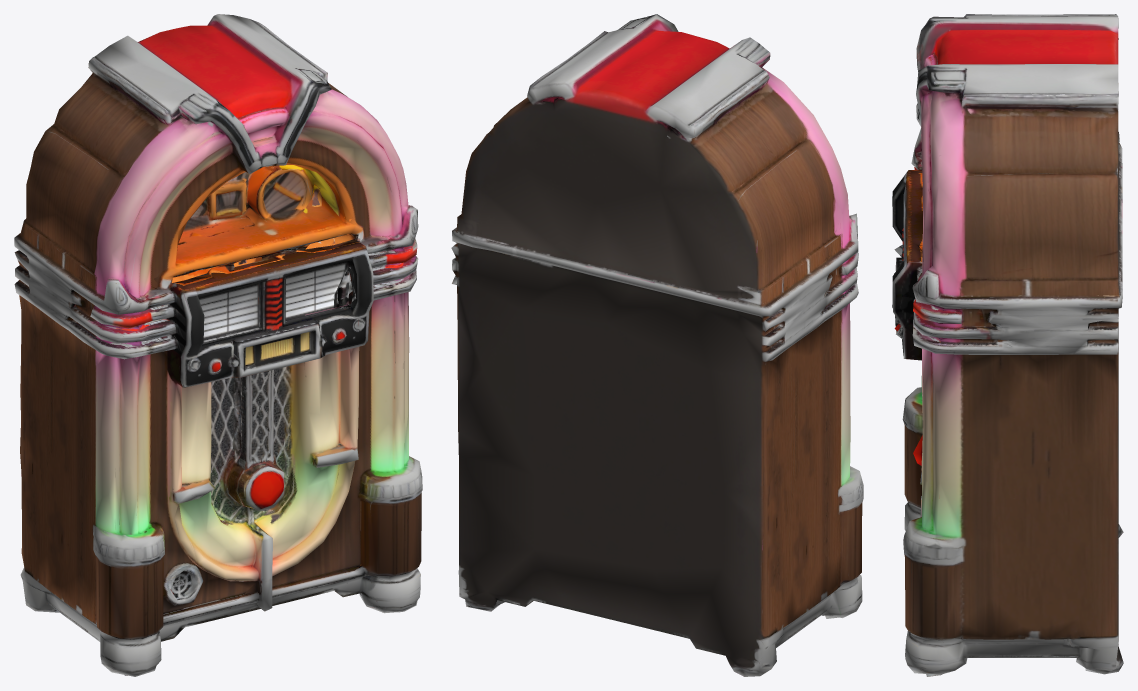
File: Meshy_AI_A_highly_detailed_vin_0105223023_texture.fbx
3 renders of one model, left to right at view 1: azimuth 30°, elevation 25°; view 2: azimuth 150°, elevation 25°; view 3: azimuth 270°, elevation 25°, orthographic. The views are drawn at different scales.
Visible parts, largest first — view 1: Mesh1.0; view 2: Mesh1.0; view 3: Mesh1.0.
Boxes of the visible parts, left/top/right/bottom form: Mesh1.0: left=14, top=14, right=422, bottom=676; Mesh1.0: left=451, top=14, right=863, bottom=676; Mesh1.0: left=892, top=14, right=1123, bottom=676.
Size of the model in its own units: 116 by 192 by 70.98.
1 material, 1 textured.
